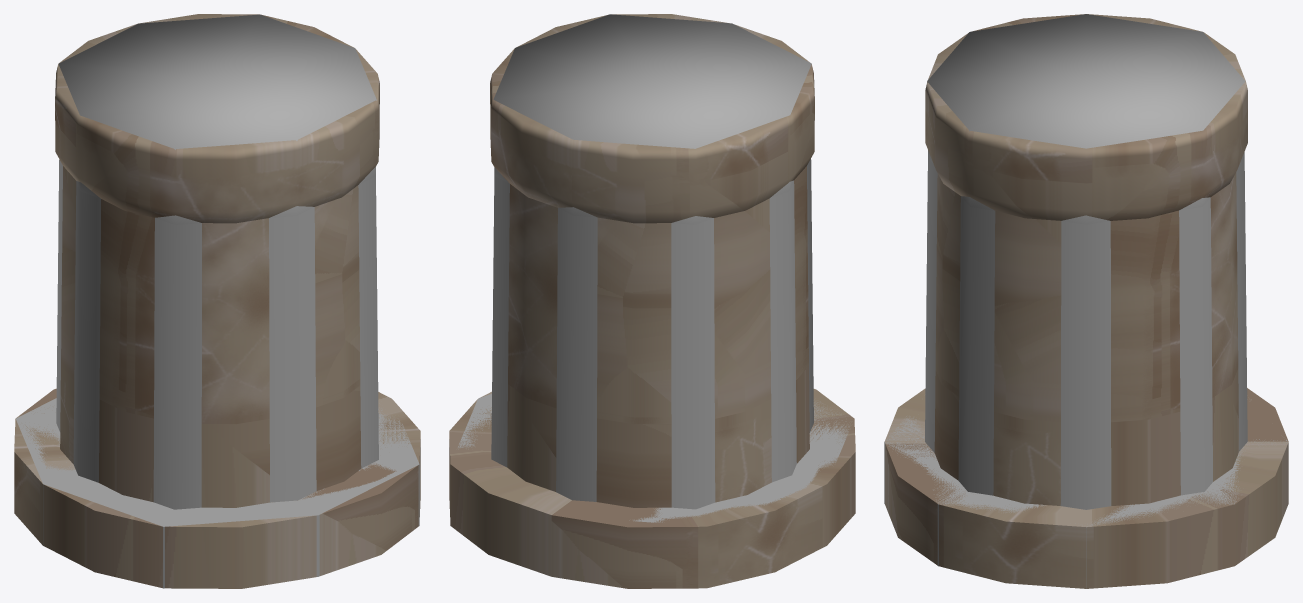
Rendered from pipe open.fbx.
The picture shows the model from 3 angles, left to right: view 1: azimuth 30°, elevation 25°; view 2: azimuth 150°, elevation 25°; view 3: azimuth 270°, elevation 25°; orthographic projection.
Parts seen in each view (by area): view 1: pPlane3, pPlane4; view 2: pPlane3, pPlane4; view 3: pPlane3, pPlane4.
Boxes of the visible parts, box(x1,y1,x2,y2) form: pPlane3: box(14, 14, 420, 588); pPlane4: box(16, 14, 419, 588); pPlane3: box(449, 14, 855, 588); pPlane4: box(458, 14, 849, 522); pPlane3: box(884, 14, 1288, 588); pPlane4: box(884, 14, 1286, 588).
Bounding box in the file's own units: 0.039 × 0.0449 × 0.039.
